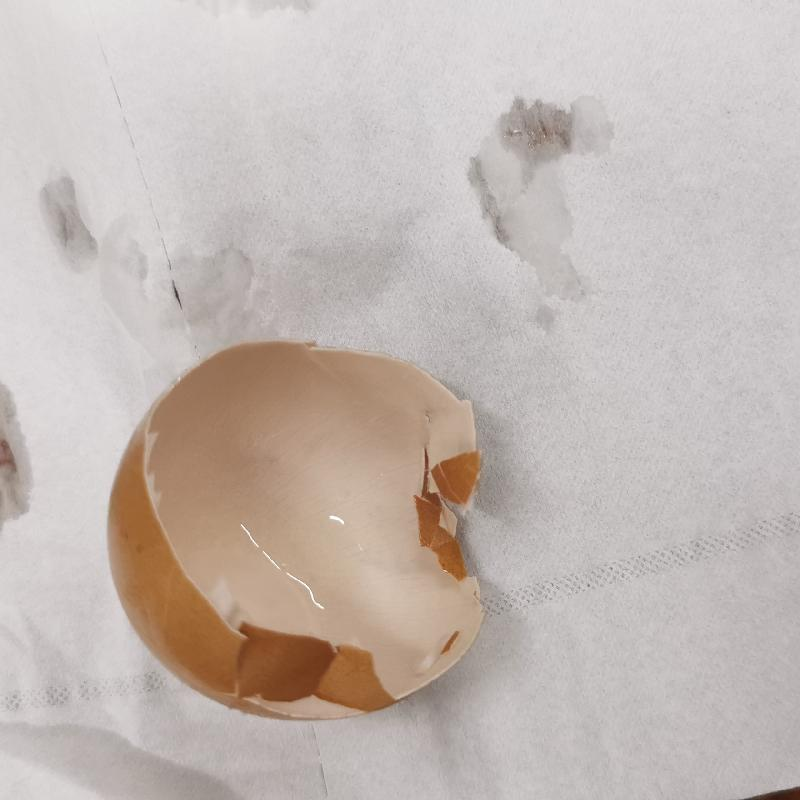eggshell: (101, 340, 486, 721)
